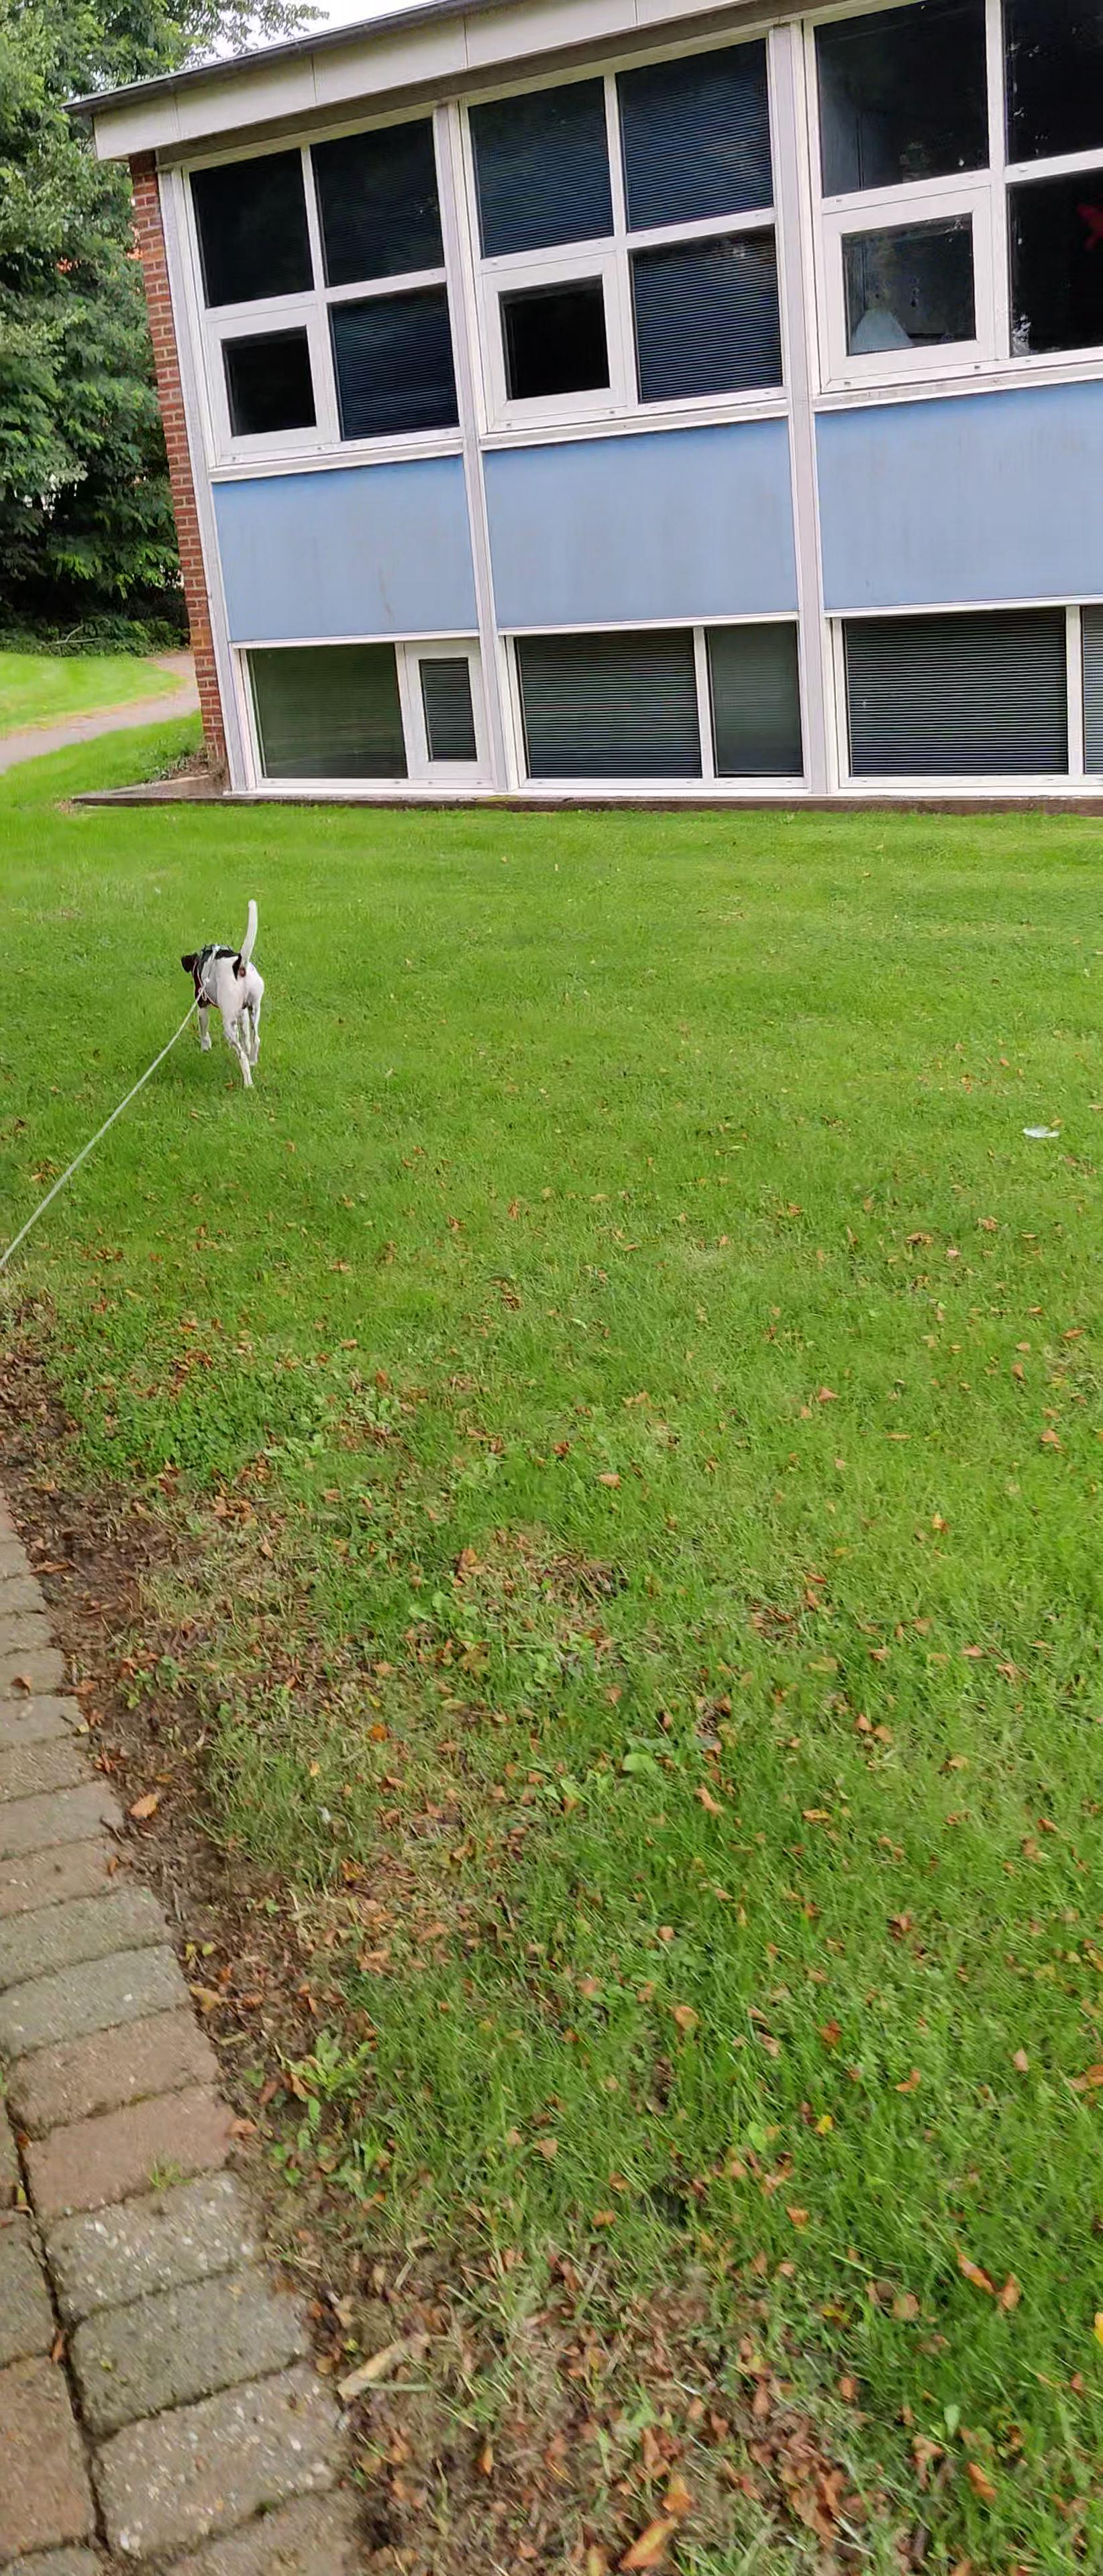Dog: (179, 897, 271, 1091)
